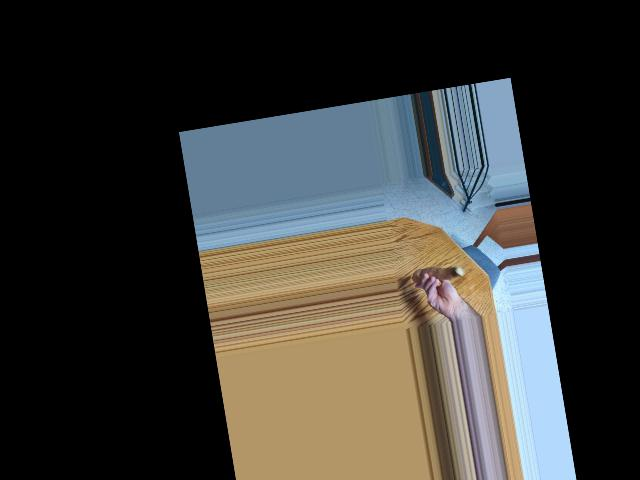sweet_potato: (413, 261, 466, 289)
